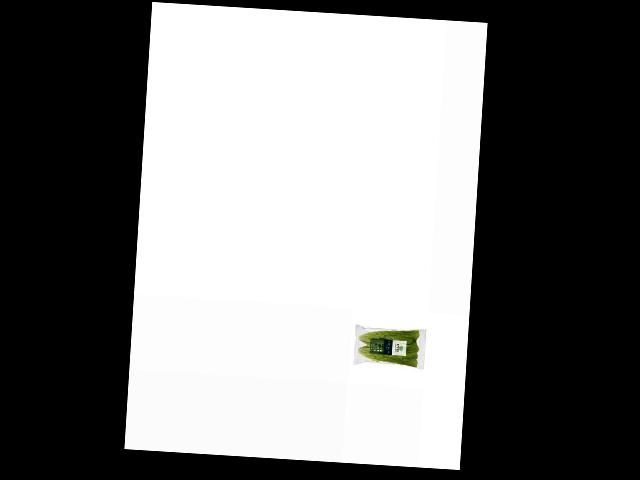lettuce: (356, 321, 422, 367)
